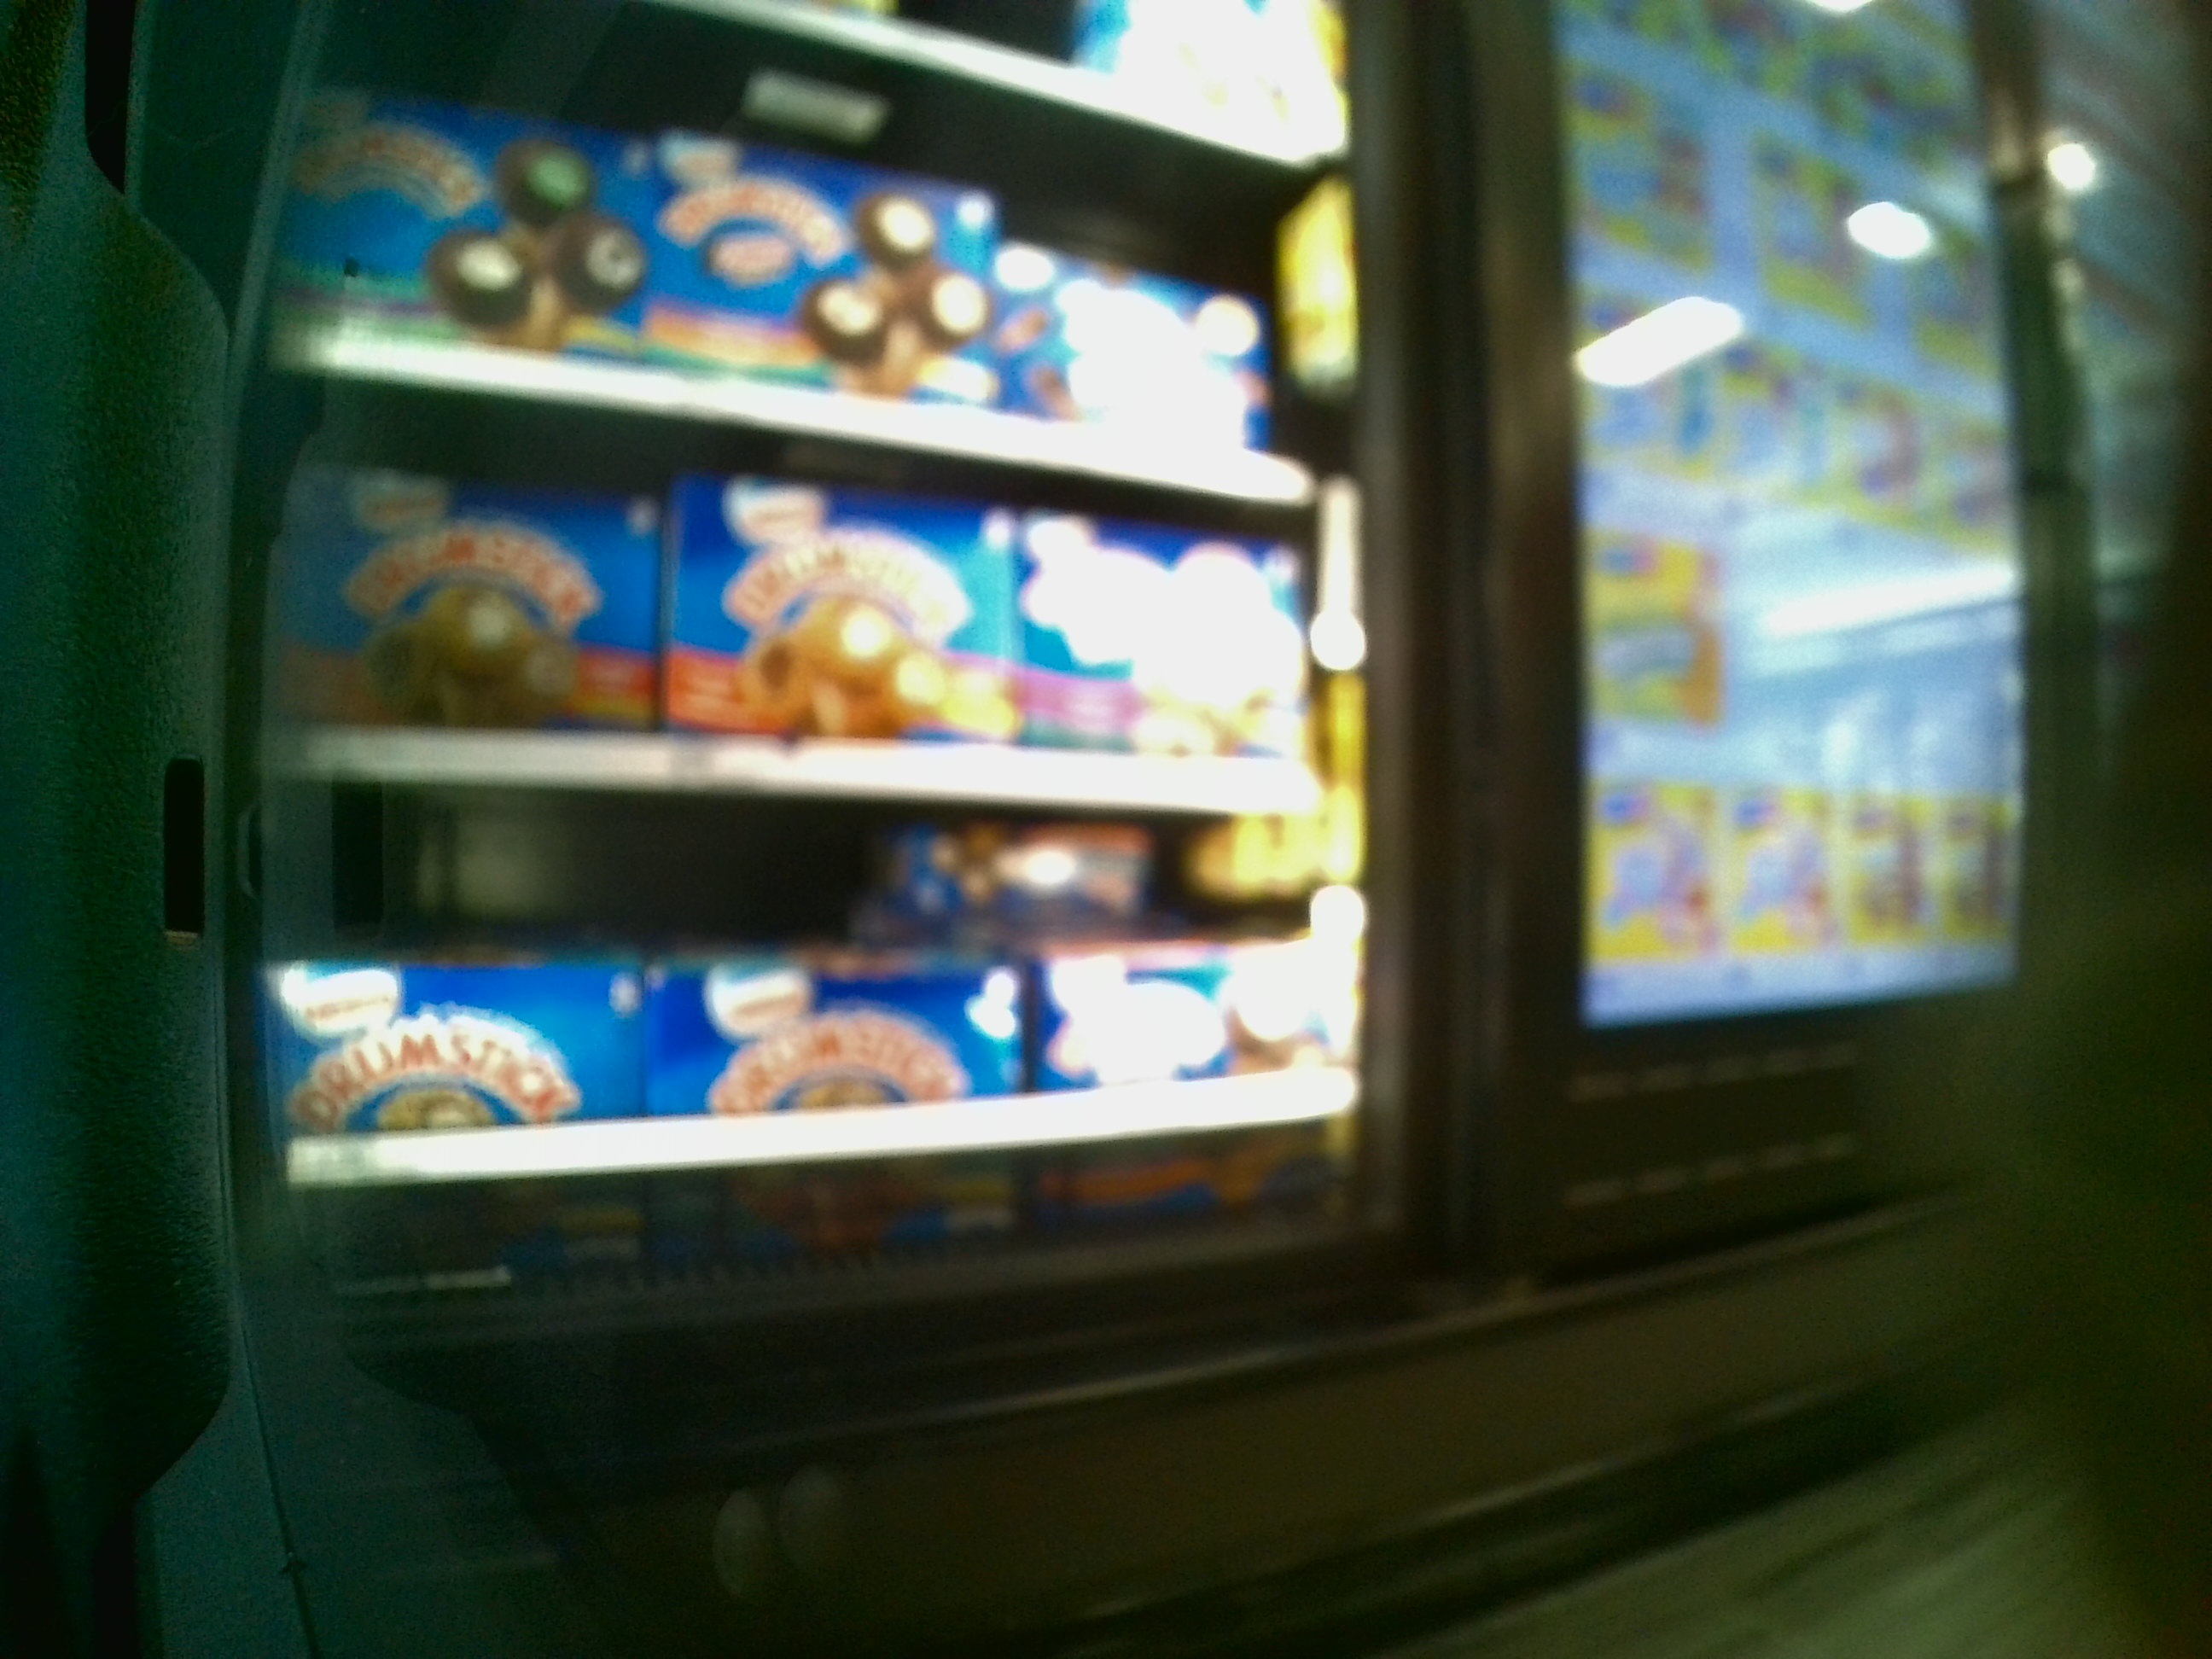shelf: (289, 781, 1355, 1270), (272, 429, 1346, 786)
